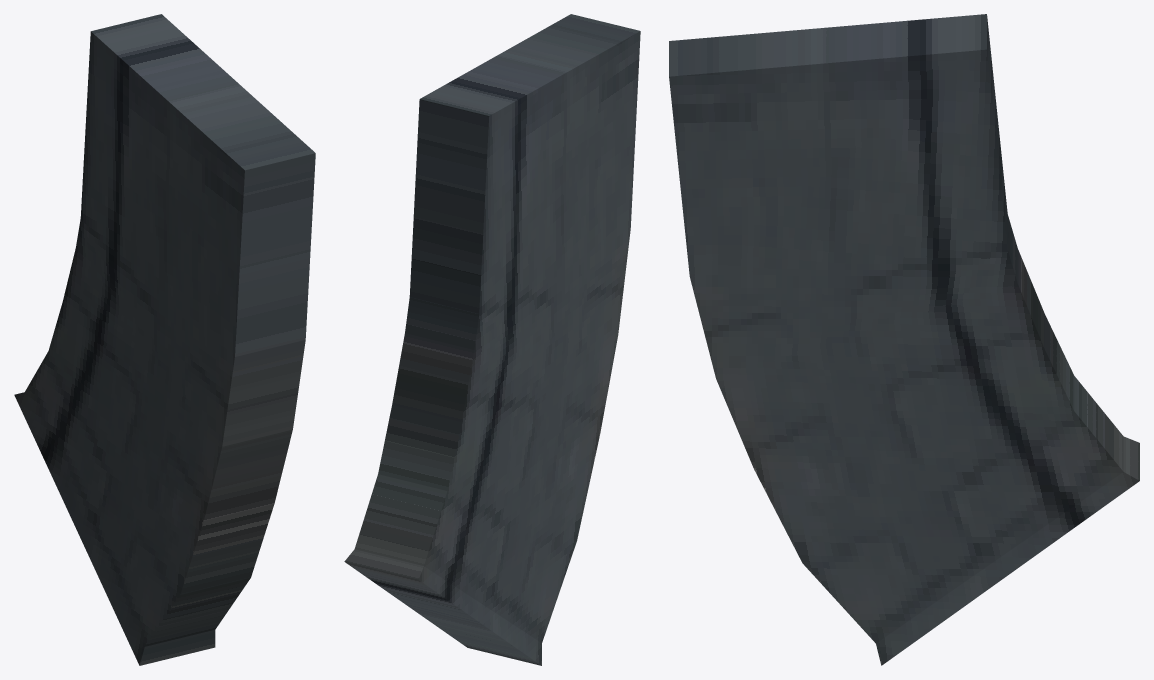
File: affineMag.glb
3 renders of one model, left to right at view 1: azimuth 30°, elevation 25°; view 2: azimuth 150°, elevation 25°; view 3: azimuth 270°, elevation 25°, orthographic. The views are drawn at different scales.
Parts seen in each view (by area): view 1: Affine mag; view 2: Affine mag; view 3: Affine mag.
Boxes of the visible parts, box(x1,y1,x2,y2) form: Affine mag: box(14, 14, 315, 665); Affine mag: box(344, 14, 640, 665); Affine mag: box(669, 14, 1139, 665).
Bounding box in the file's own units: 0.042 × 0.3167 × 0.2197.
Materials: 1 (1 with a texture image).
